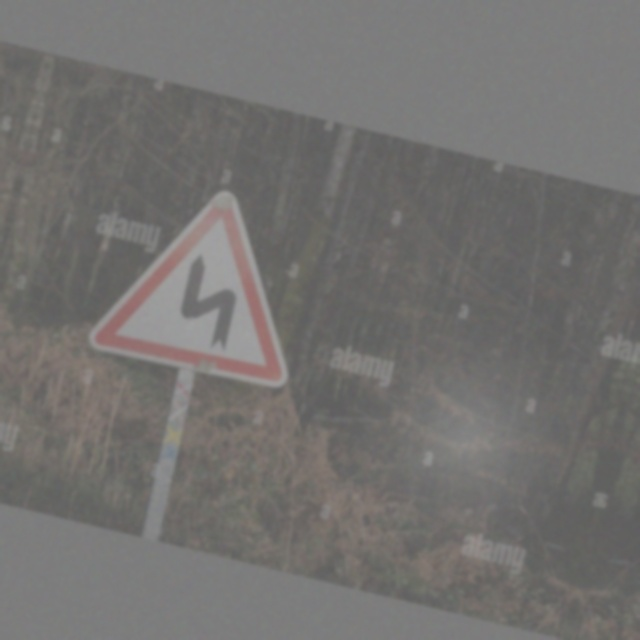Left_Reverse_Bend: (79, 168, 319, 399)
